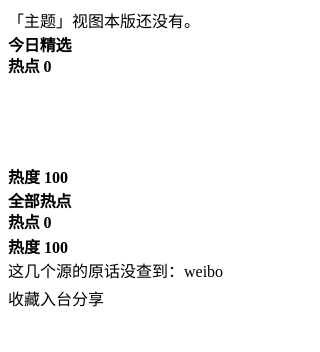
Scenario: PLAZA-04 卡片三动作 › **双断言**：点动作不跳转 · 点卡面跳转
Later steps or results of the test are not shown.
① 点动作：请求发出去了，而卡片的跳转 NEVER 被触发。
Click the button with test id "action-favorite" at (24, 298), box [8,282,40,314]
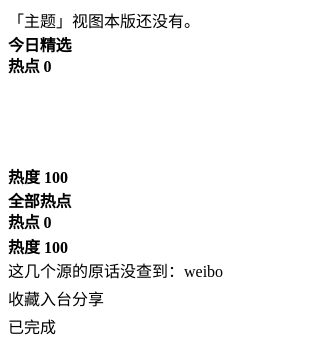
Expected: the message "已完成" is shown, [8,319,56,336]
